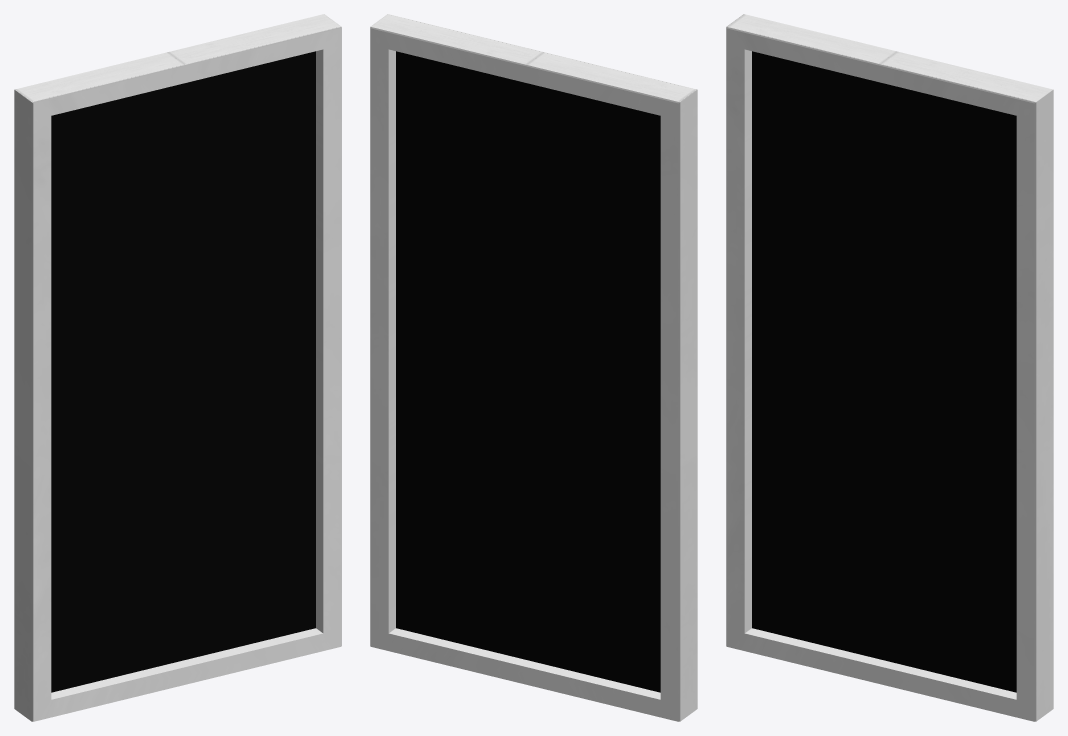
Rendered from LabDoor.fbx.
3 views of the same model, side by side, from view 1: azimuth 30°, elevation 25°; view 2: azimuth 150°, elevation 25°; view 3: azimuth 330°, elevation 25° (orthographic).
Parts seen in each view (by area): view 1: LabDoor; view 2: LabDoor; view 3: LabDoor.
Boxes of the visible parts, left/top/right/bottom form: LabDoor: left=14, top=14, right=341, bottom=721; LabDoor: left=370, top=14, right=697, bottom=721; LabDoor: left=726, top=14, right=1053, bottom=721.
Size of the model in its own units: 151 by 288 by 15.61.
Materials: 2 (1 with a texture image).
